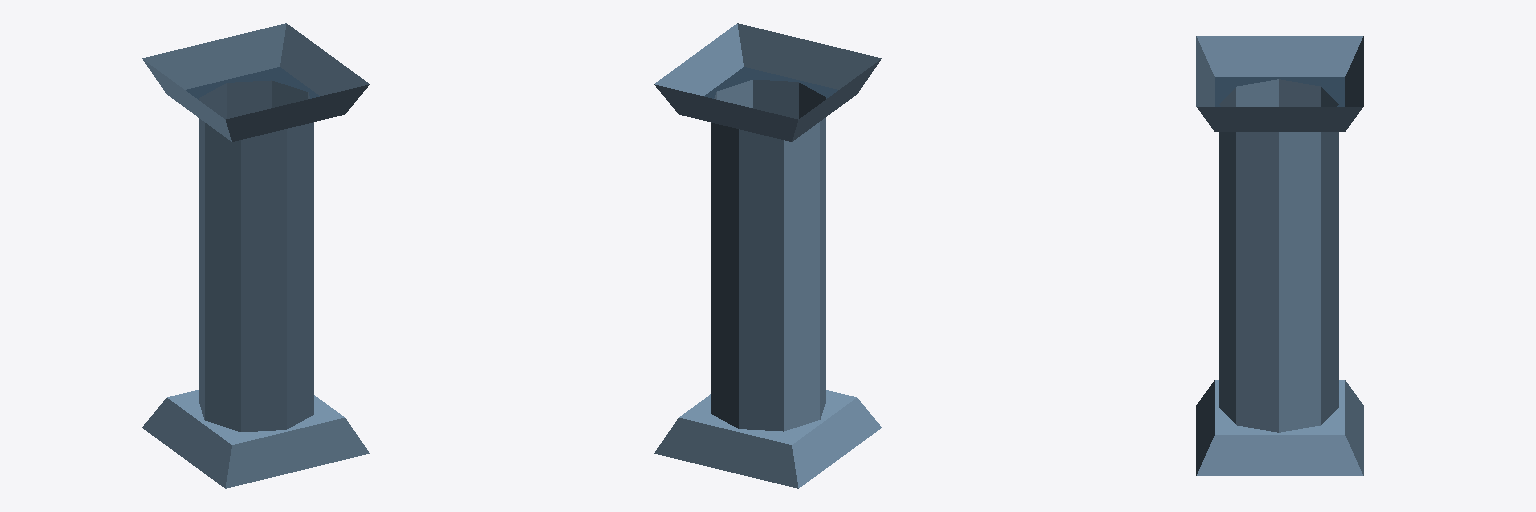
Rendered from Pillar.obj.
The picture shows the model from 3 angles: view 1: azimuth 30°, elevation 25°; view 2: azimuth 150°, elevation 25°; view 3: azimuth 270°, elevation 25°; orthographic projection.
Parts seen in each view (by area): view 1: Mesh4.1; view 2: Mesh4.1; view 3: Mesh4.1.
Boxes of the visible parts, <box> form: Mesh4.1: <box>142,23,369,488</box>; Mesh4.1: <box>654,23,881,488</box>; Mesh4.1: <box>1196,36,1363,475</box>.
Bounding box in the file's own units: 8 × 19.5 × 8.